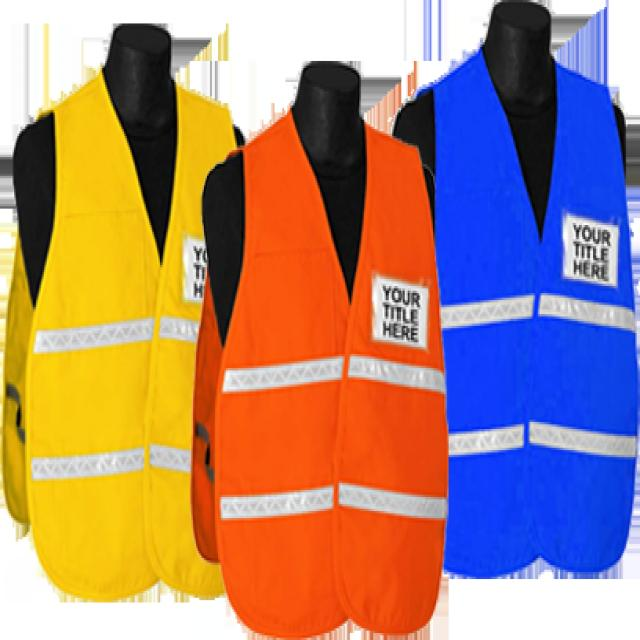Reflective-Jacket: (196, 101, 455, 635), (0, 59, 240, 607), (419, 47, 640, 584)
